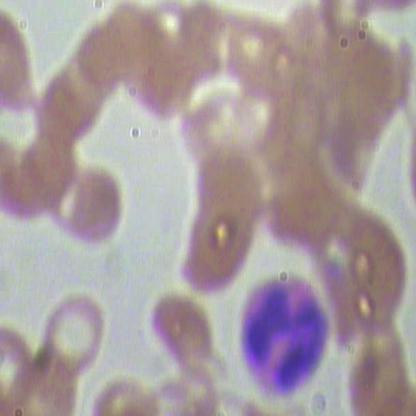WBC: (234, 275, 338, 403)
